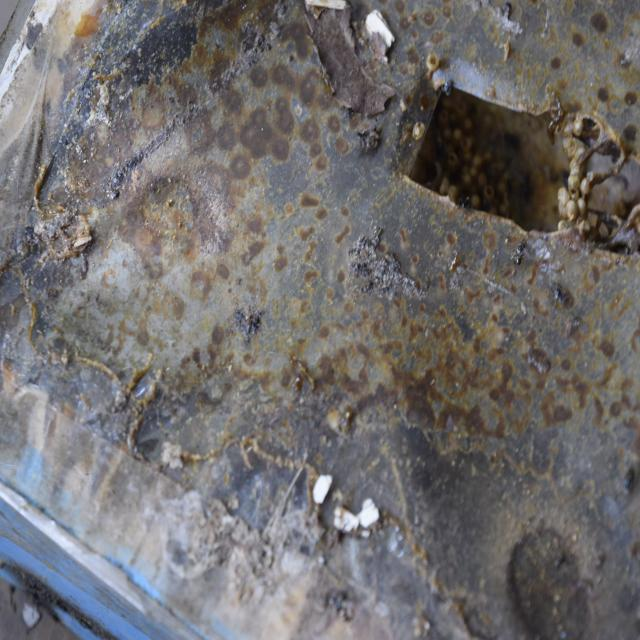honeybee: (510, 241, 525, 270), (553, 276, 567, 302)
